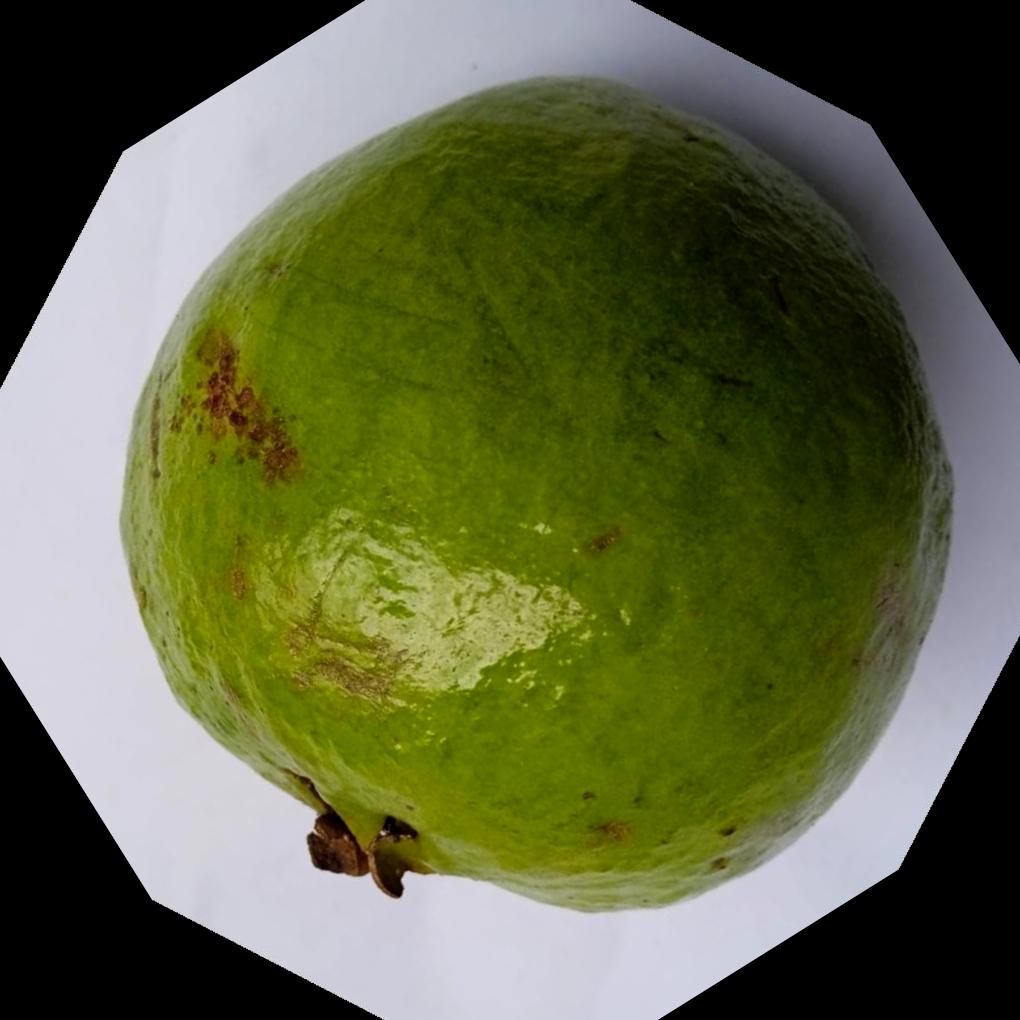FreshGuava: (118, 76, 957, 917)
